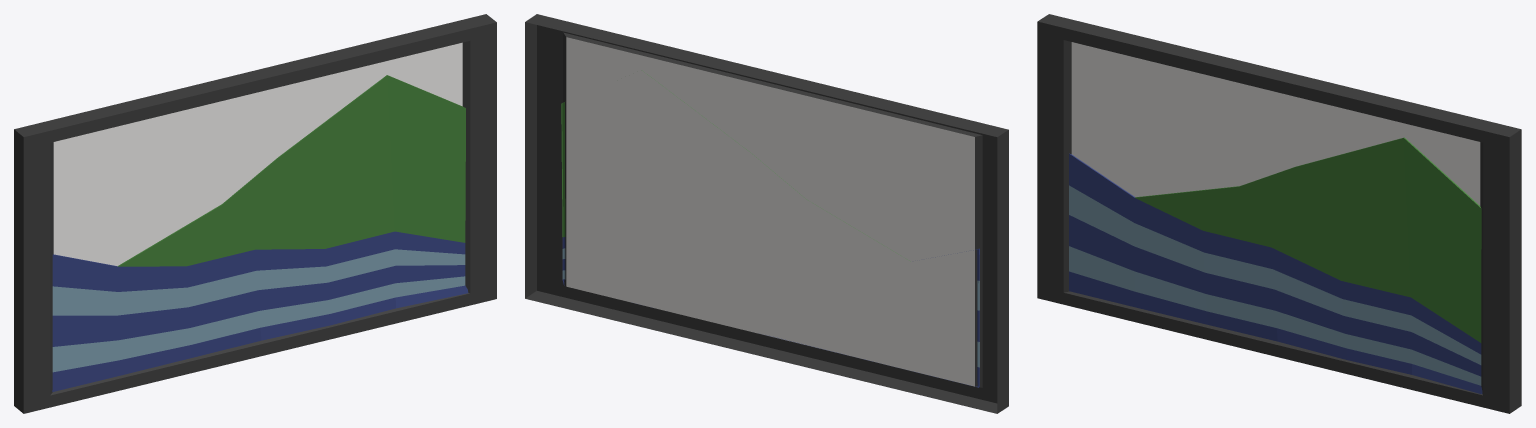
File: Picture_1.fbx
3 views of the same model, side by side, from view 1: azimuth 30°, elevation 25°; view 2: azimuth 150°, elevation 25°; view 3: azimuth 330°, elevation 25° (orthographic).
Visible parts, largest first — view 1: Picture_1; view 2: Picture_1; view 3: Picture_1.
Part boxes in pixels (x1,y1,x2,y2): Picture_1: (14, 14, 496, 413); Picture_1: (525, 14, 1008, 413); Picture_1: (1037, 14, 1521, 413).
Bounding box in the file's own units: 187 × 7.62 × 104.
